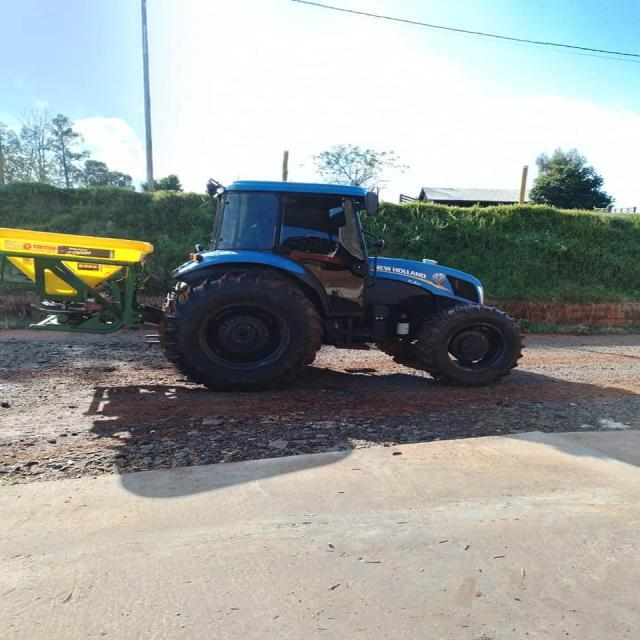Tratores - v5 YOLO V8L 2024-11-13: (162, 174, 526, 390)
